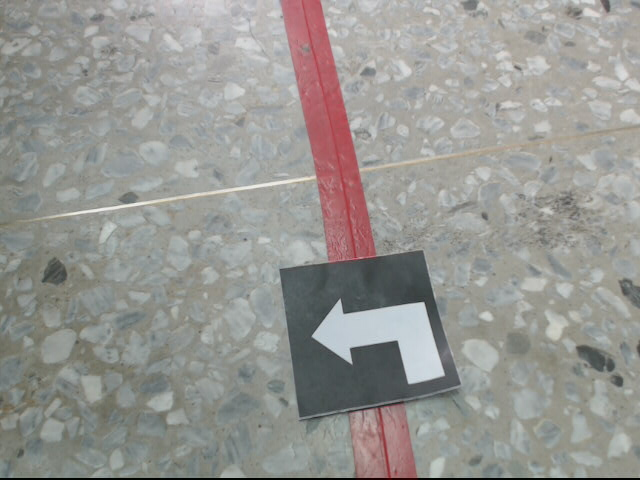left: (276, 250, 465, 421)
